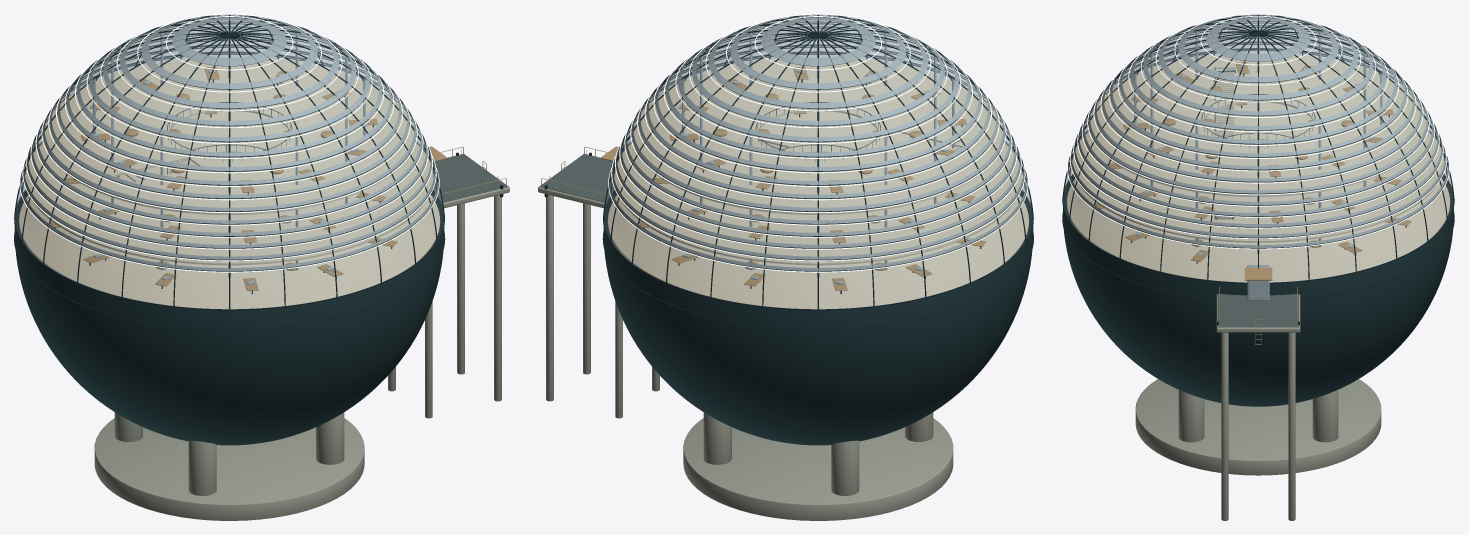
The model's file is observatory.glb.
3 renders of one model, left to right at view 1: azimuth 30°, elevation 25°; view 2: azimuth 150°, elevation 25°; view 3: azimuth 270°, elevation 25°, orthographic. The views are drawn at different scales.
Parts seen in each view (by area): view 1: observatory / Pavilion clear glazing, observatory / Pavilion limestone interior, observatory / Immersed ceramic coating, observatory / Pavilion silver louvers, observatory / Marine concrete, observatory / Recessed joints, observatory / Pavilion warm light, observatory / Pavilion oak furnishings, observatory / Deck grating; view 2: observatory / Pavilion clear glazing, observatory / Pavilion limestone interior, observatory / Immersed ceramic coating, observatory / Pavilion silver louvers, observatory / Marine concrete, observatory / Recessed joints, observatory / Pavilion warm light, observatory / Pavilion oak furnishings, observatory / Deck grating; view 3: observatory / Pavilion clear glazing, observatory / Pavilion limestone interior, observatory / Immersed ceramic coating, observatory / Pavilion silver louvers, observatory / Marine concrete, observatory / Recessed joints, observatory / Pavilion warm light, observatory / Pavilion oak furnishings, observatory / Deck grating, observatory / Anodised bronze.
Boxes of the visible parts, left/top/right/bottom form: observatory / Pavilion clear glazing: left=15, top=15, right=443, bottom=308; observatory / Pavilion limestone interior: left=19, top=57, right=440, bottom=309; observatory / Immersed ceramic coating: left=14, top=190, right=444, bottom=445; observatory / Pavilion silver louvers: left=20, top=14, right=438, bottom=284; observatory / Marine concrete: left=94, top=186, right=509, bottom=520; observatory / Recessed joints: left=14, top=15, right=503, bottom=330; observatory / Pavilion warm light: left=19, top=14, right=439, bottom=272; observatory / Pavilion oak furnishings: left=50, top=66, right=397, bottom=290; observatory / Deck grating: left=433, top=154, right=508, bottom=202; observatory / Pavilion clear glazing: left=604, top=15, right=1032, bottom=308; observatory / Pavilion limestone interior: left=607, top=57, right=1028, bottom=309; observatory / Immersed ceramic coating: left=603, top=190, right=1033, bottom=445; observatory / Pavilion silver louvers: left=609, top=14, right=1027, bottom=284; observatory / Marine concrete: left=538, top=186, right=953, bottom=520; observatory / Recessed joints: left=544, top=15, right=1033, bottom=330; observatory / Pavilion warm light: left=608, top=14, right=1028, bottom=272; observatory / Pavilion oak furnishings: left=639, top=66, right=986, bottom=290; observatory / Deck grating: left=539, top=154, right=614, bottom=202; observatory / Pavilion clear glazing: left=1063, top=15, right=1453, bottom=297; observatory / Pavilion limestone interior: left=1066, top=53, right=1450, bottom=282; observatory / Immersed ceramic coating: left=1063, top=174, right=1453, bottom=406; observatory / Pavilion silver louvers: left=1068, top=14, right=1448, bottom=300; observatory / Marine concrete: left=1135, top=294, right=1381, bottom=520; observatory / Recessed joints: left=1062, top=15, right=1454, bottom=325; observatory / Pavilion warm light: left=1067, top=14, right=1449, bottom=249; observatory / Pavilion oak furnishings: left=1095, top=62, right=1411, bottom=261; observatory / Deck grating: left=1218, top=293, right=1298, bottom=327; observatory / Anodised bronze: left=1219, top=267, right=1297, bottom=344.
Bounding box in the file's own units: 83.61 × 77.15 × 70.22.
